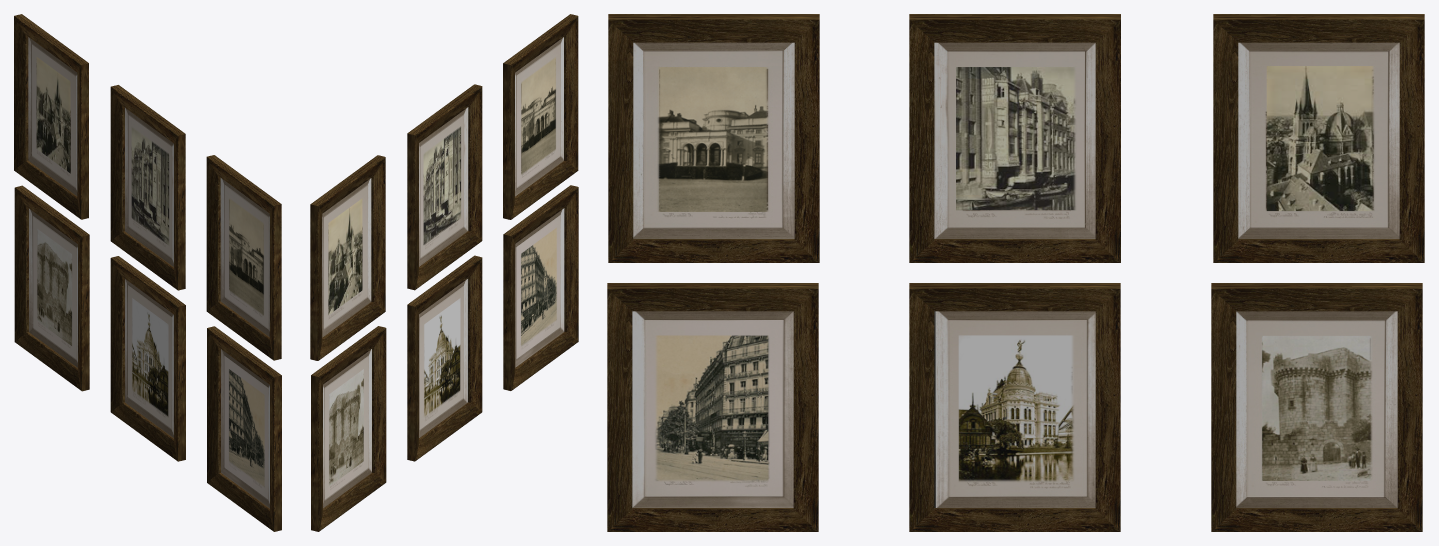
File: Pictures 2.FBX
3 renders of one model, left to right at view 1: azimuth 30°, elevation 25°; view 2: azimuth 150°, elevation 25°; view 3: azimuth 270°, elevation 25°, orthographic. The views are drawn at different scales.
Parts seen in each view (by area): view 1: Picture 3, Picture 2, Picture 4, Picture 5, Pictures 2, Picture 6; view 2: Pictures 2, Picture 2, Picture 3, Picture 4, Picture 5, Picture 6; view 3: Pictures 2, Picture 2, Picture 3, Picture 4, Picture 5, Picture 6.
Part boxes in pixels (left/top/right/bottom): Picture 3: left=206, top=155, right=281, bottom=360; Picture 2: left=110, top=85, right=185, bottom=290; Picture 4: left=14, top=185, right=89, bottom=391; Picture 5: left=110, top=256, right=185, bottom=461; Pictures 2: left=14, top=14, right=88, bottom=219; Picture 6: left=207, top=326, right=281, bottom=531; Pictures 2: left=310, top=155, right=385, bottom=360; Picture 2: left=407, top=84, right=482, bottom=290; Picture 3: left=503, top=14, right=578, bottom=219; Picture 4: left=311, top=326, right=386, bottom=531; Picture 5: left=407, top=255, right=482, bottom=461; Picture 6: left=503, top=185, right=578, bottom=390; Pictures 2: left=1213, top=14, right=1424, bottom=262; Picture 2: left=909, top=14, right=1120, bottom=262; Picture 3: left=608, top=14, right=819, bottom=262; Picture 4: left=1211, top=283, right=1422, bottom=531; Picture 5: left=909, top=283, right=1120, bottom=531; Picture 6: left=607, top=283, right=818, bottom=531.
Size of the model in its own units: 1.56 by 86.8 by 60.01.
Materials: 2 (2 with a texture image).
